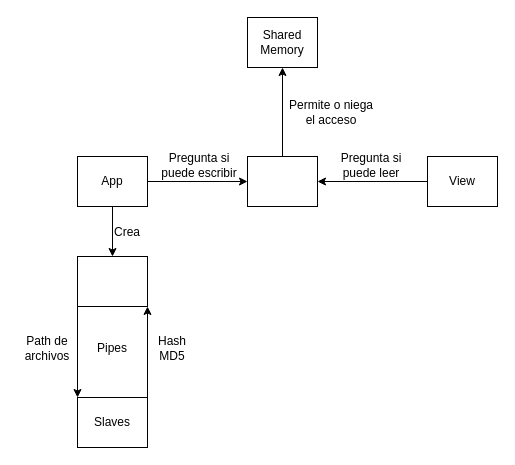
Some shapes in this 515 by 465 pixel diagram are drawn without their labels. The centre of each missing label's shape, as x and y in pixels:
Semaforo: point 282,181
Slave Manager: point 112,281
